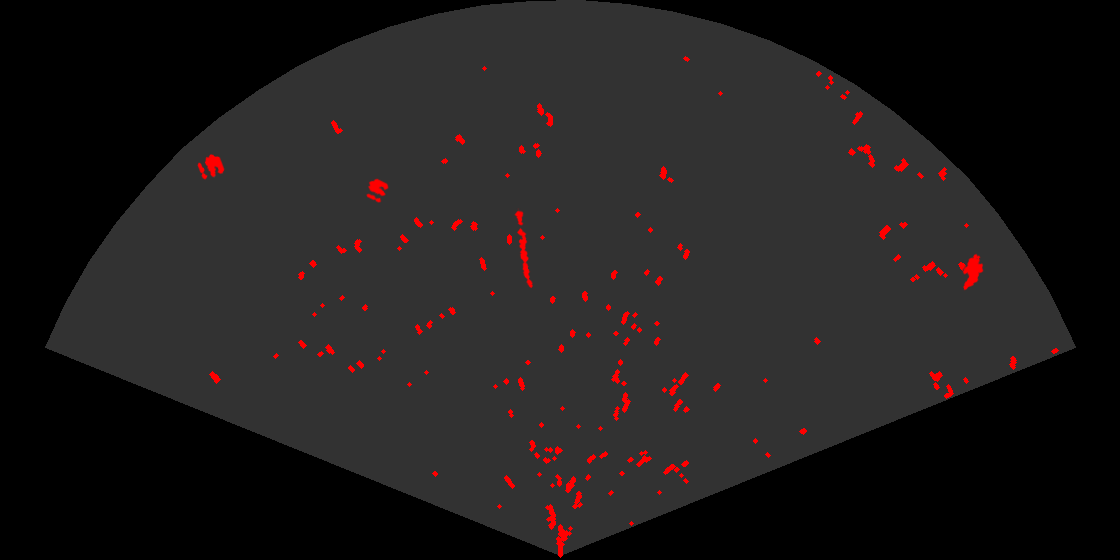AUV: (961, 252, 985, 292)
ball: (196, 153, 226, 181), (365, 177, 390, 204)
chain: (513, 208, 534, 290)
